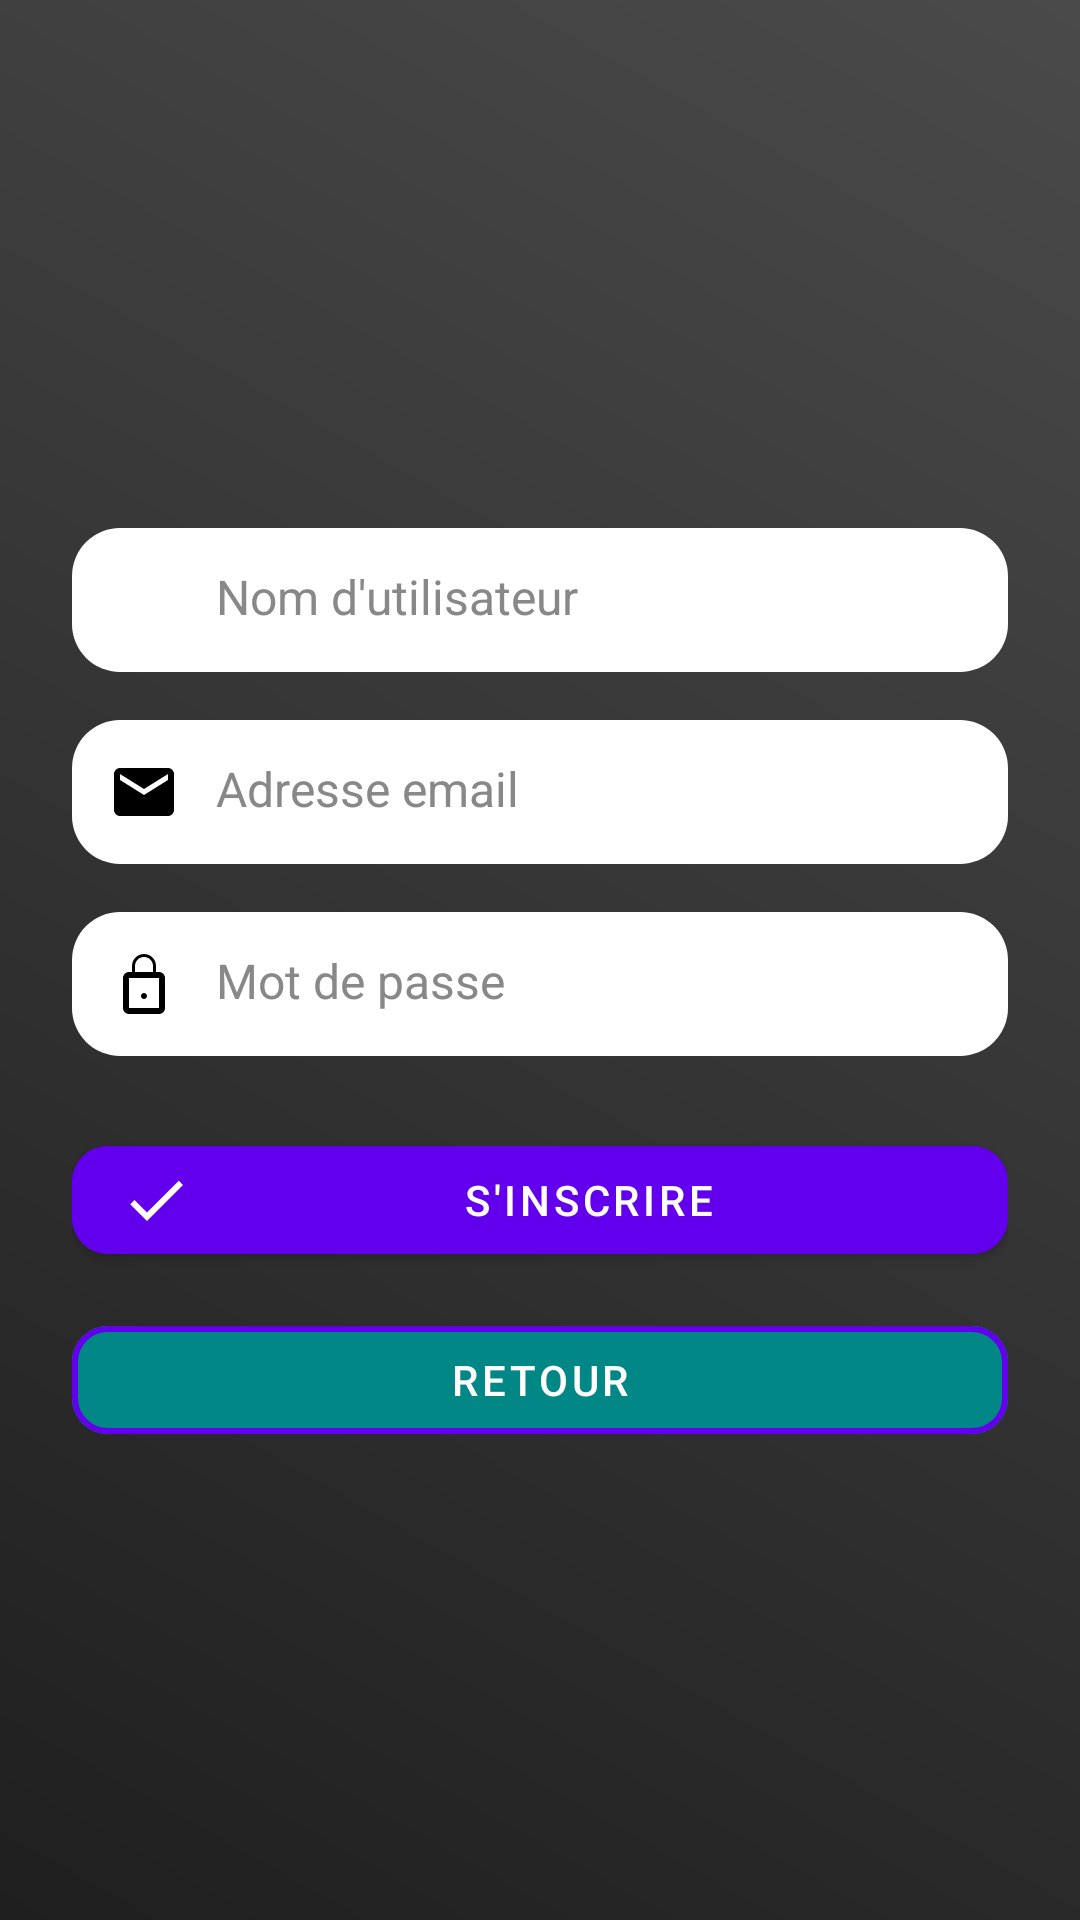

Locate icon controls on the screen. Image size 1080w x 1920h, boxes as (left=x1, top=y1, right=x2, bottom=y2).
Icône email: (left=114, top=768, right=174, bottom=816)
